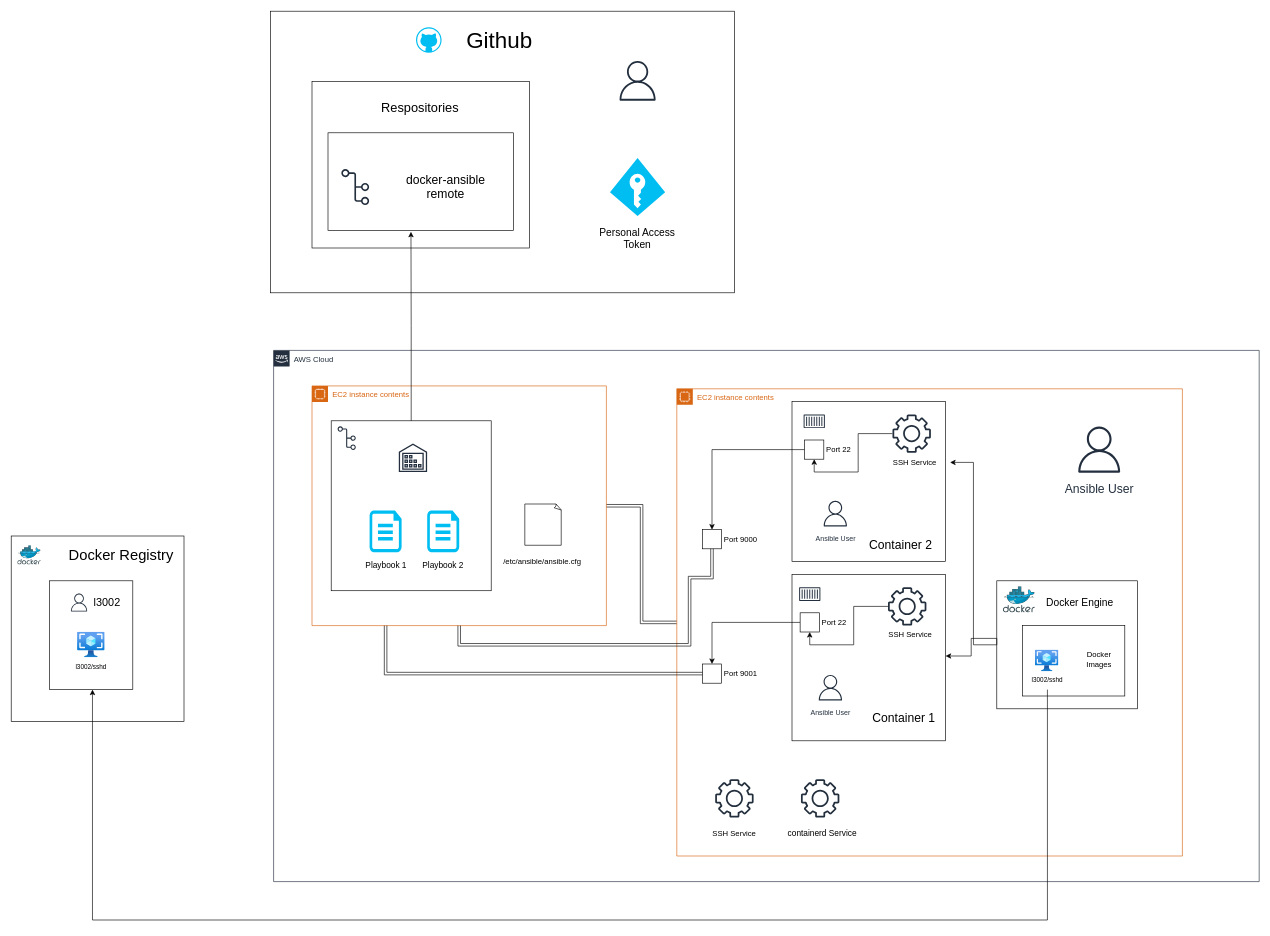
The diagram is 1270 pixels wide and 936 high, and some of its shapes have lost their labels. Here are the shapes that lost their labels. From the top down, the centre of each, then its label:
(637,80): Student
(413,457): Inventory
